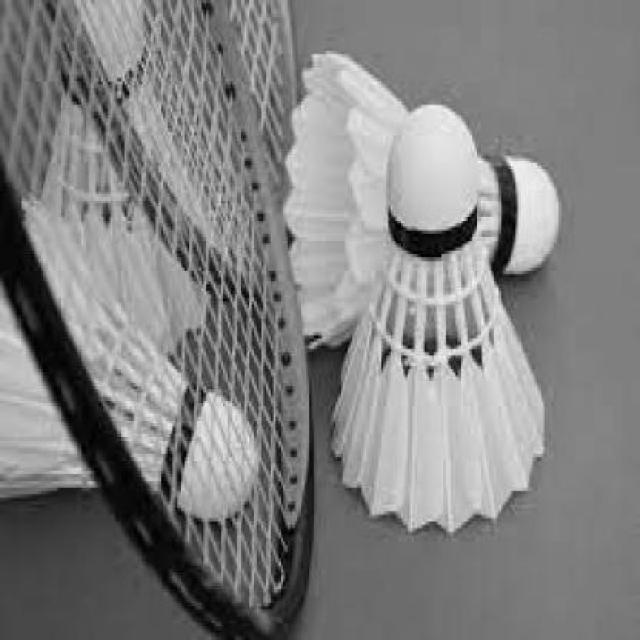Shuttlecock: (283, 49, 565, 531)
